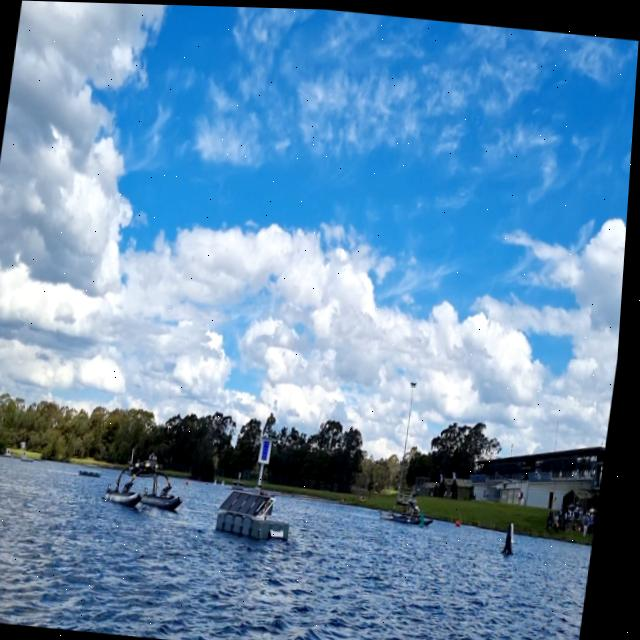led: (266, 438, 276, 461)
